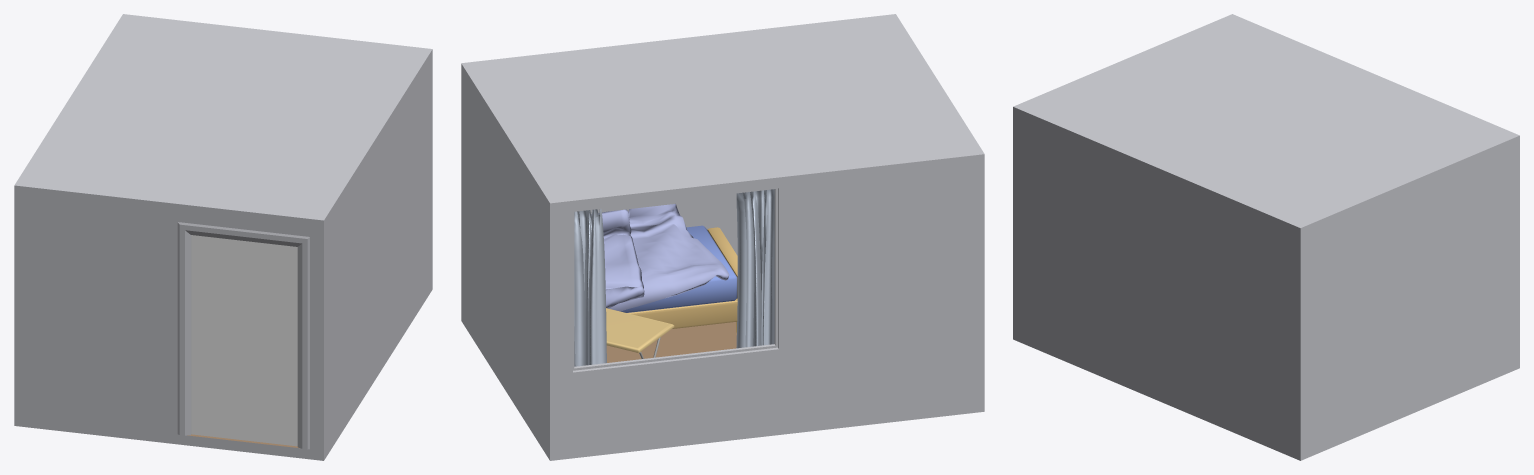
Rendered from room-Bq_lHzDa.glb.
3 views of the same model, side by side, from view 1: azimuth 30°, elevation 25°; view 2: azimuth 150°, elevation 25°; view 3: azimuth 270°, elevation 25° (orthographic). The views are drawn at different scales.
Parts seen in each view (by area): view 1: room, door; view 2: room, quilt, curtain-left, curtain-right, bed-frame, mattress, desktop, 立方體; view 3: room.
Boxes of the visible parts, x1,y1,x2,y2 form: room: [14, 14, 432, 460]; door: [177, 222, 309, 449]; room: [461, 14, 984, 460]; quilt: [591, 204, 729, 311]; curtain-left: [736, 189, 774, 348]; curtain-right: [574, 209, 606, 366]; bed-frame: [627, 227, 737, 333]; mattress: [620, 225, 737, 312]; desktop: [606, 308, 674, 352]; 立方體: [590, 193, 736, 213]; room: [1013, 14, 1519, 460].
Bounding box in the file's own units: 4.74 × 2.4 × 4.74.
